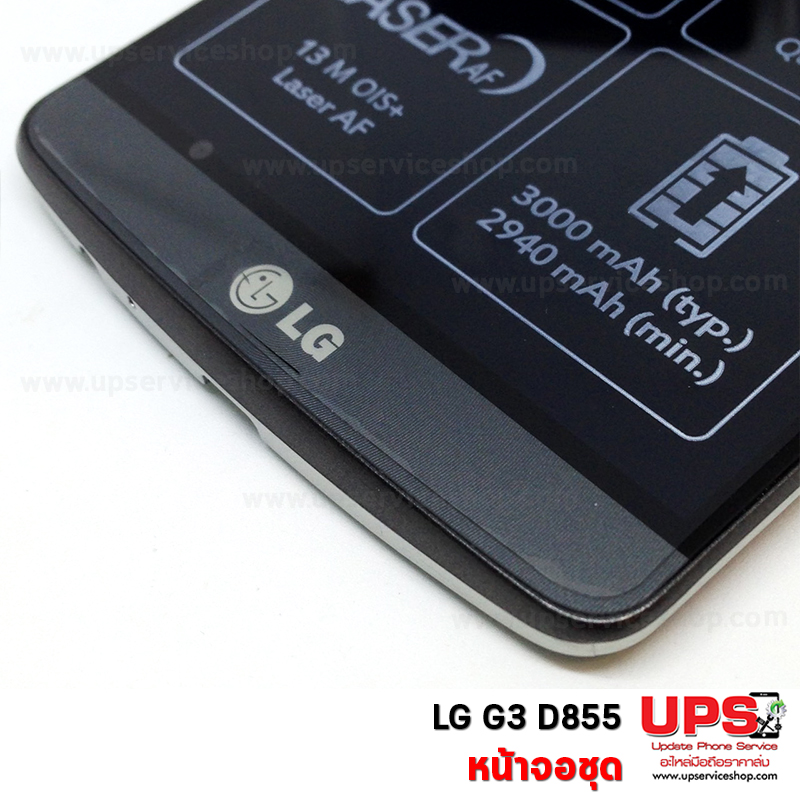Phone: (14, 3, 800, 666)
